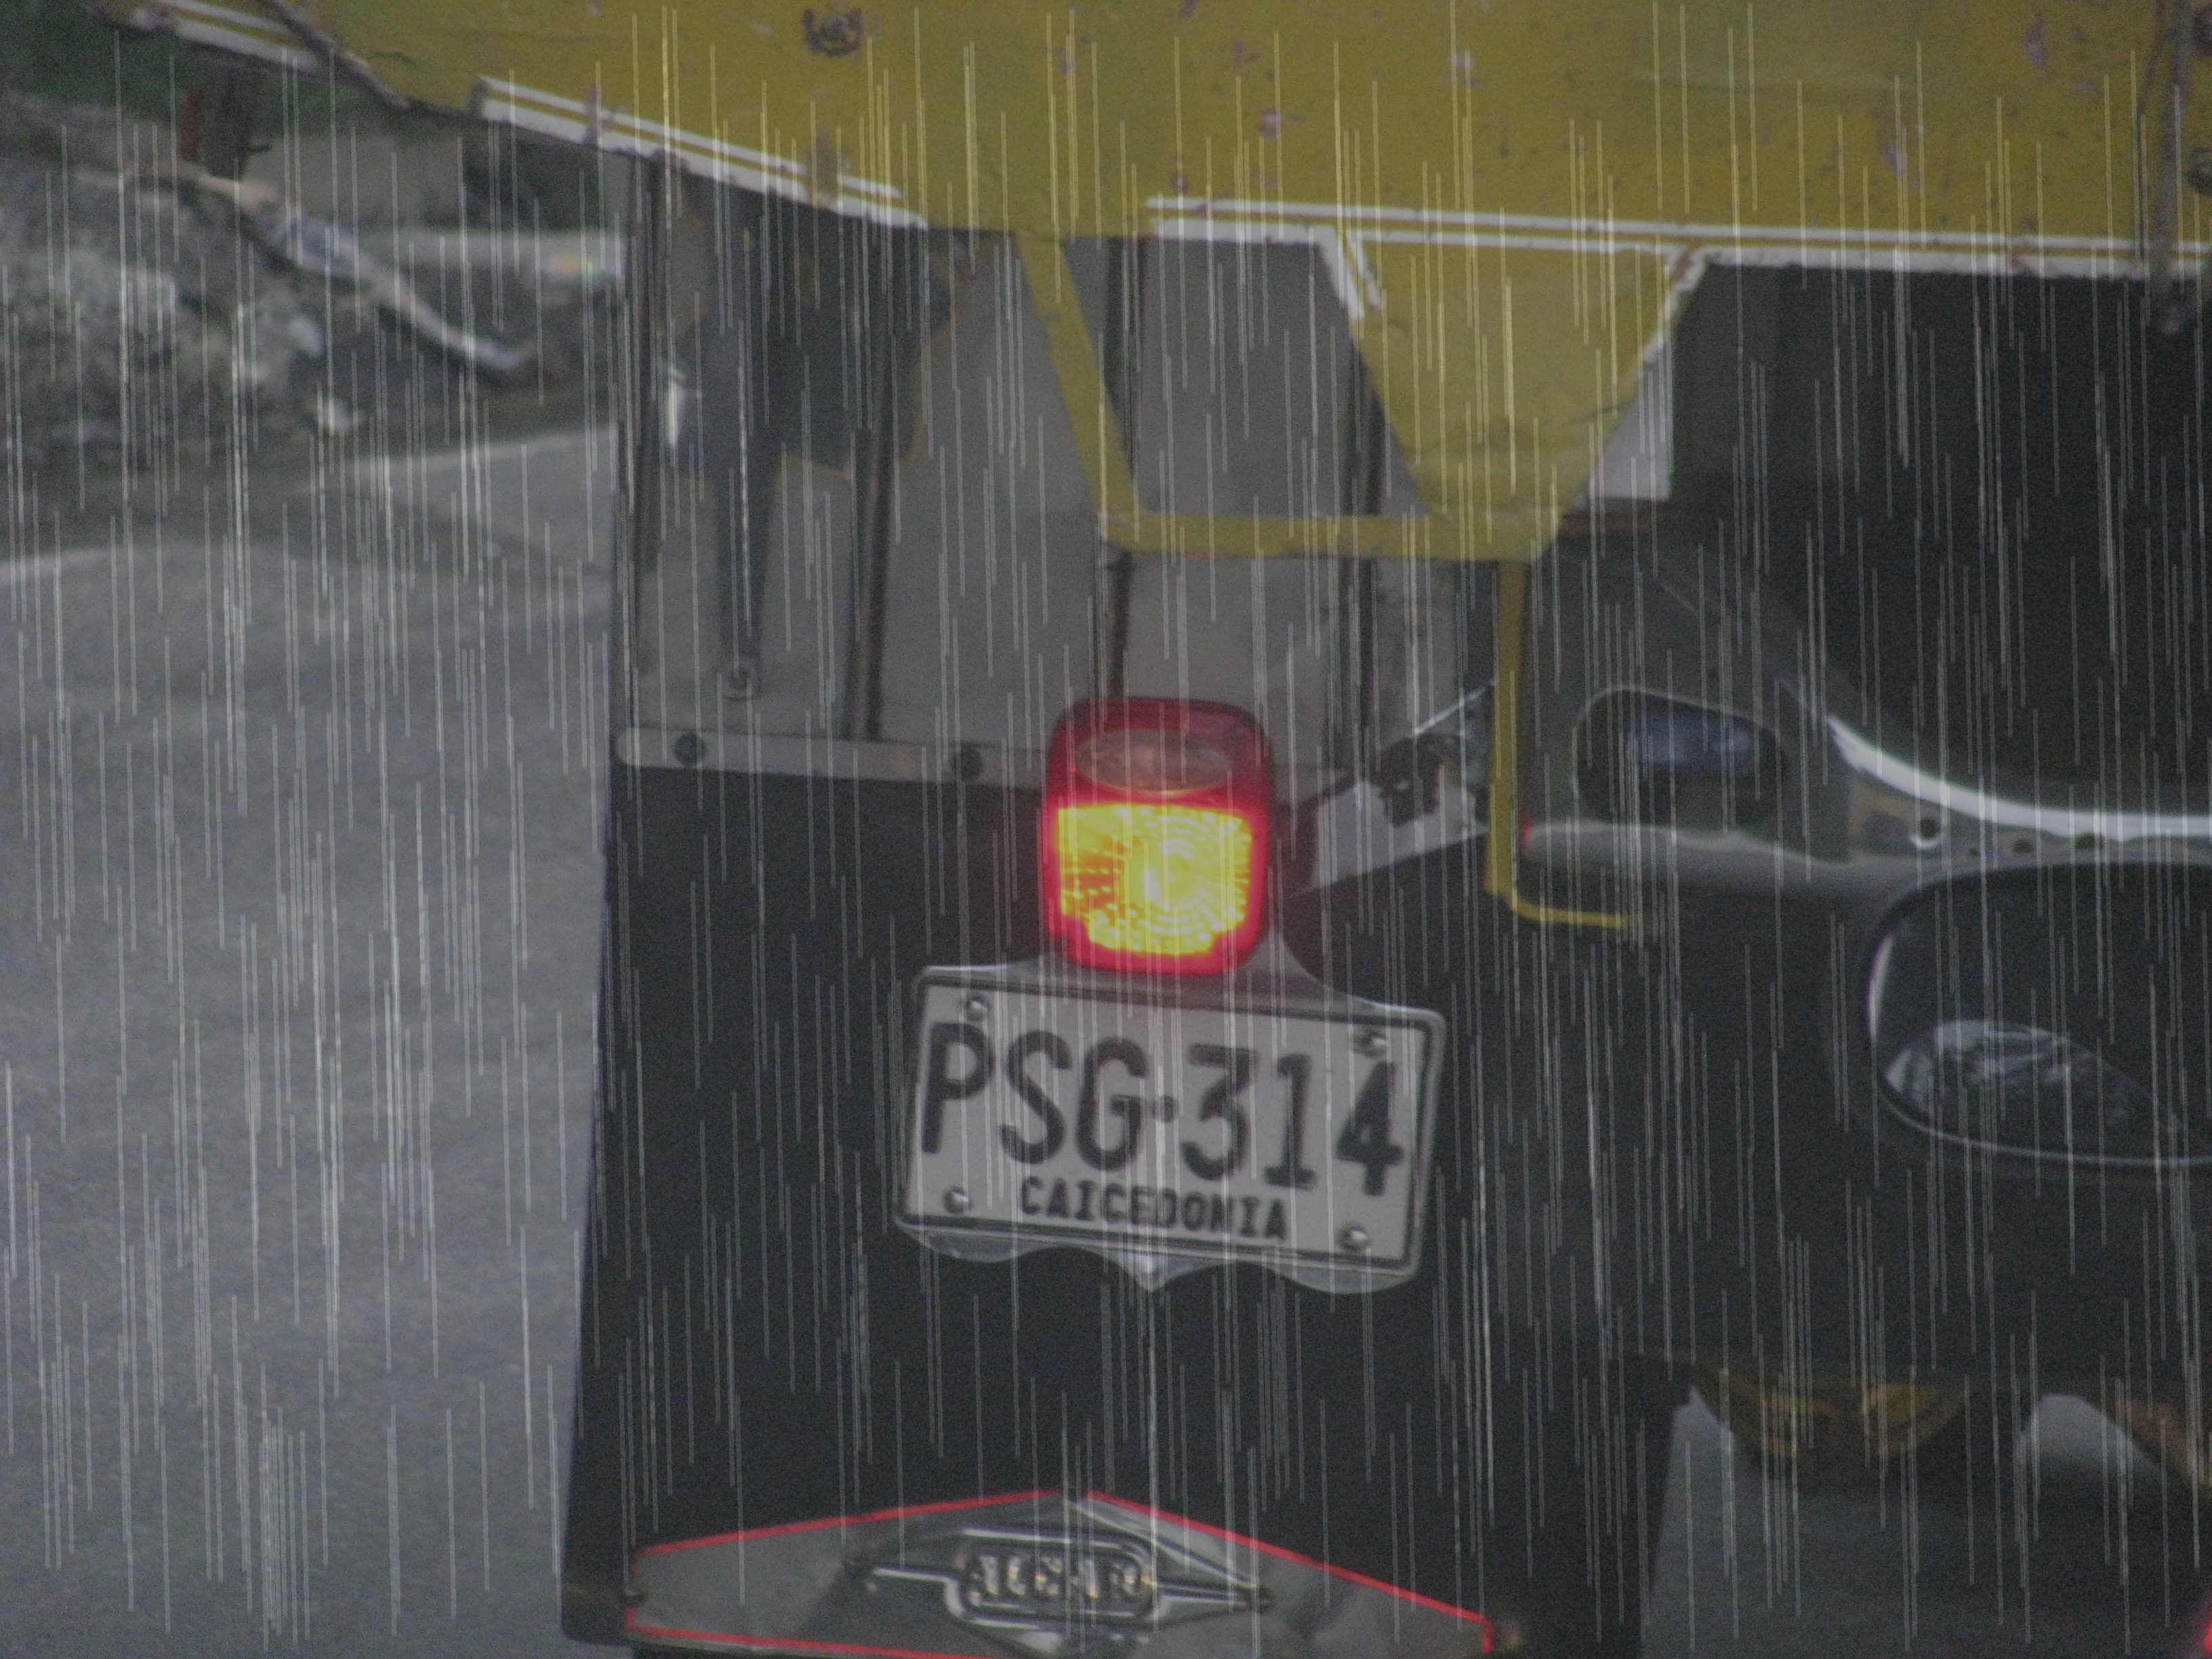placas: (880, 946, 1454, 1286)
